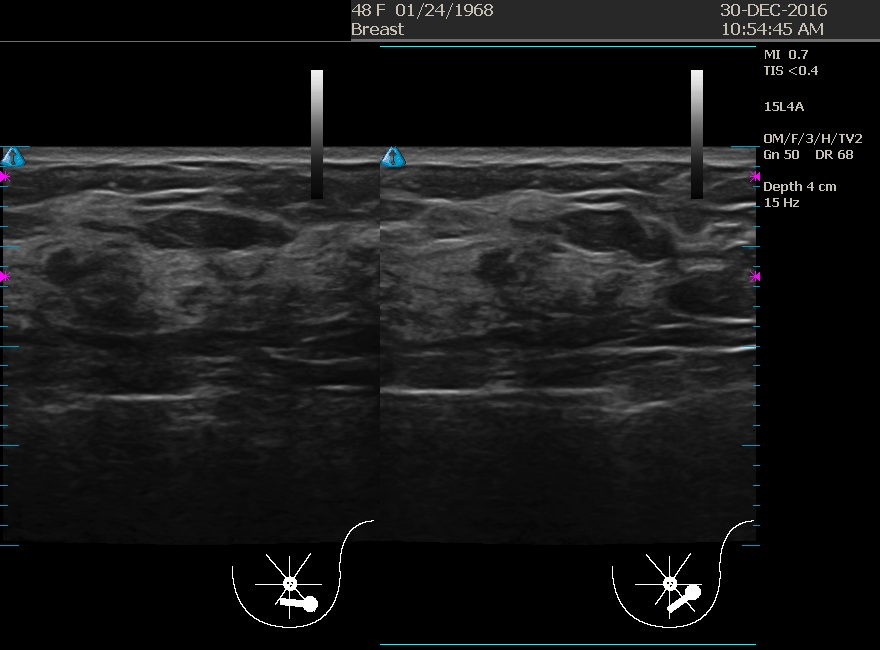BIRADS_3: (105, 195, 305, 395), (521, 201, 721, 401)
